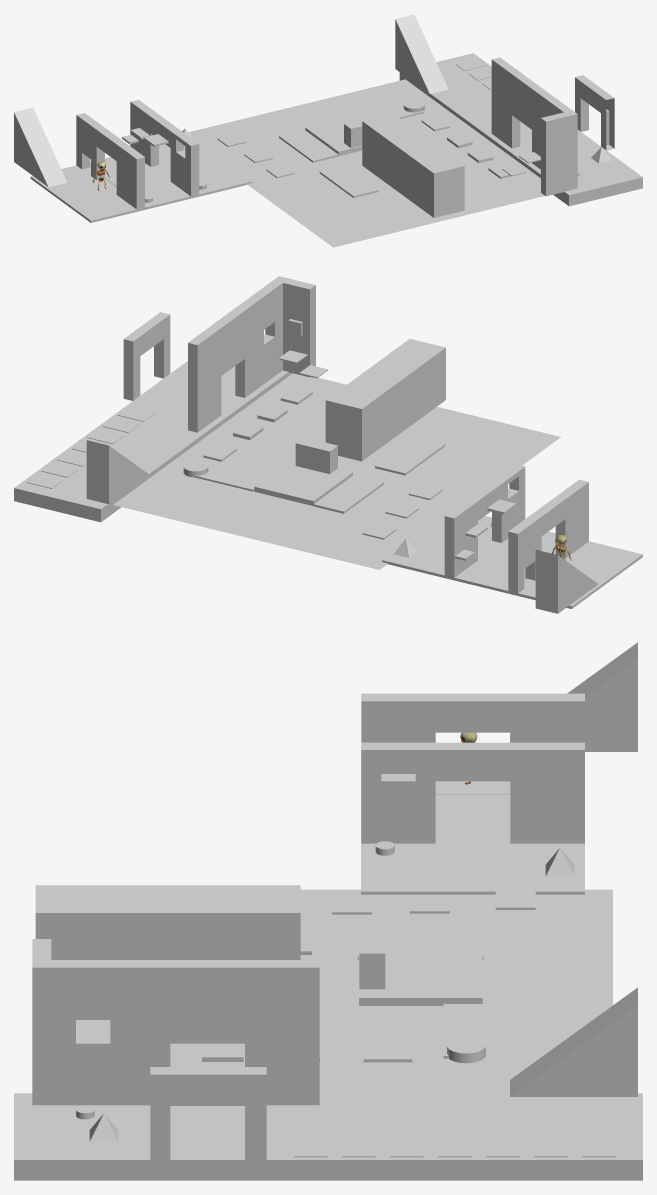
File: cem int blockout.FBX
The picture shows the model from 3 angles, top to bottom: view 1: azimuth 30°, elevation 25°; view 2: azimuth 150°, elevation 25°; view 3: azimuth 270°, elevation 25°; orthographic projection. The views are drawn at different scales.
Visible parts, largest first — view 1: Plane001, Box020, Box024, Box035, Box002, Box005, Box001, Box033, Box034, Box025, Box008, Box003 (+5 smaller); view 2: Plane001, Box020, Box024, Box035, Box002, Box005, Box025, Box033, Box034, Box014, Box001, Box008 (+5 smaller); view 3: Box024, Plane001, Box020, Box035, Box005, Box002, Box008, Box033, Box025, Box014, Box034, Box003 (+17 smaller).
Part boxes in pixels (x1,y1,x2,y2): Plane001: (188, 79, 544, 247); Box020: (491, 57, 577, 196); Box024: (399, 53, 642, 206); Box035: (362, 114, 464, 217); Box002: (76, 113, 144, 209); Box005: (130, 100, 199, 196); Box001: (30, 165, 144, 222); Box033: (395, 14, 448, 93); Box034: (14, 107, 67, 187); Box025: (575, 75, 614, 150); Box008: (158, 138, 252, 196); Box003: (90, 157, 199, 209); Plane001: (113, 373, 560, 569); Box020: (188, 276, 315, 432); Box024: (14, 361, 292, 522); Box035: (325, 339, 445, 461); Box002: (508, 479, 588, 593); Box005: (444, 464, 525, 577); Box025: (123, 312, 170, 400); Box033: (86, 440, 149, 504); Box034: (535, 550, 598, 613); Box014: (254, 458, 352, 505); Box001: (508, 541, 642, 608); Box008: (382, 508, 491, 577); Box024: (14, 1093, 642, 1180); Plane001: (76, 889, 612, 1093); Box020: (32, 939, 319, 1105); Box035: (35, 885, 300, 959); Box005: (361, 742, 584, 843); Box002: (361, 693, 584, 773); Box008: (361, 842, 584, 894); Box033: (510, 987, 637, 1096); Box025: (150, 1067, 266, 1168); Box014: (359, 952, 482, 1005); Box034: (510, 642, 637, 751); Box003: (361, 795, 510, 843).
Size of the model in its own units: 1373 by 239 by 860.
